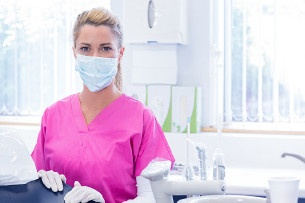Mask: (73, 41, 118, 86)
